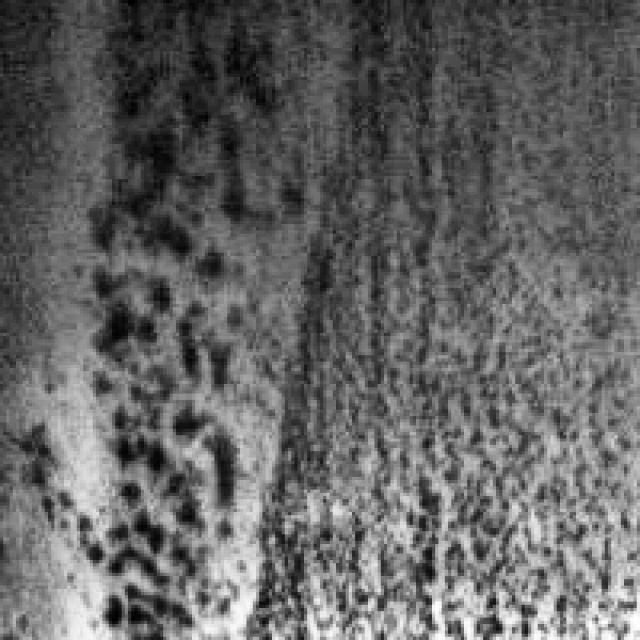Rolled_in_Scale: (268, 6, 598, 621), (64, 3, 291, 624)
